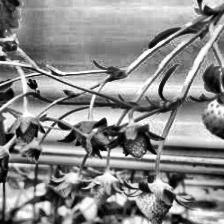Powdery Mildew Fruit: (135, 181, 176, 224), (92, 174, 120, 206)
